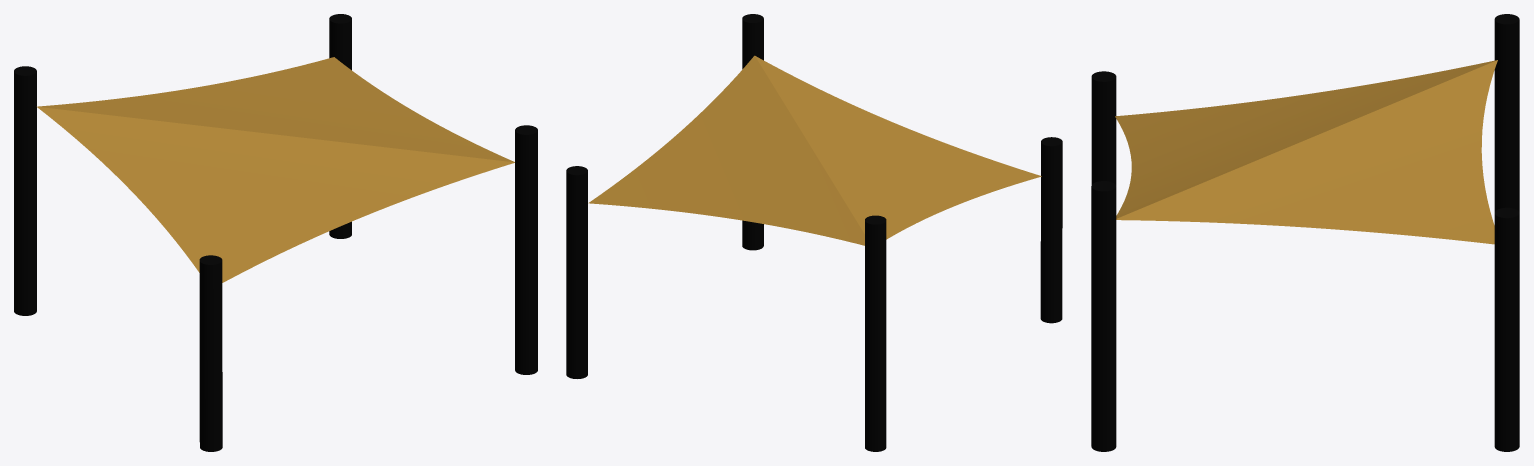
Rendered from Model-32_4-POINT HYPAR SAIL.dae.
3 views of the same model, side by side, from view 1: azimuth 30°, elevation 25°; view 2: azimuth 150°, elevation 25°; view 3: azimuth 270°, elevation 25° (orthographic). The views are drawn at different scales.
Visible parts, largest first — view 1: Brep_a9383508, Brep_a934df14, Brep, Brep_acb7d632, Brep_a633b9bf; view 2: Brep_a9383508, Brep_a934df14, Brep_a633b9bf, Brep_acb7d632, Brep; view 3: Brep_a9383508, Brep, Brep_a633b9bf, Brep_a934df14, Brep_acb7d632.
Part boxes in pixels (bbox=[...]): Brep_a9383508: bbox=[37, 57, 514, 282]; Brep_a934df14: bbox=[14, 66, 36, 315]; Brep: bbox=[515, 125, 537, 374]; Brep_acb7d632: bbox=[199, 255, 222, 451]; Brep_a633b9bf: bbox=[329, 14, 351, 238]; Brep_a9383508: bbox=[588, 55, 1041, 245]; Brep_a934df14: bbox=[865, 215, 886, 451]; Brep_a633b9bf: bbox=[566, 166, 587, 378]; Brep_acb7d632: bbox=[1040, 137, 1062, 323]; Brep: bbox=[742, 14, 763, 250]; Brep_a9383508: bbox=[1115, 60, 1497, 244]; Brep: bbox=[1091, 181, 1116, 451]; Brep_a633b9bf: bbox=[1494, 207, 1519, 451]; Brep_a934df14: bbox=[1494, 14, 1519, 212]; Brep_acb7d632: bbox=[1091, 71, 1116, 184].
Size of the model in its own units: 18.82 by 19.17 by 12.88.
